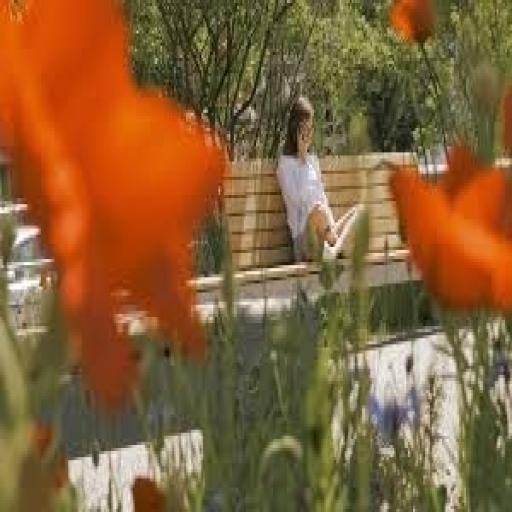calling: (273, 92, 365, 272)
